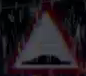Speed Breaker ahead: (5, 6, 82, 74)
